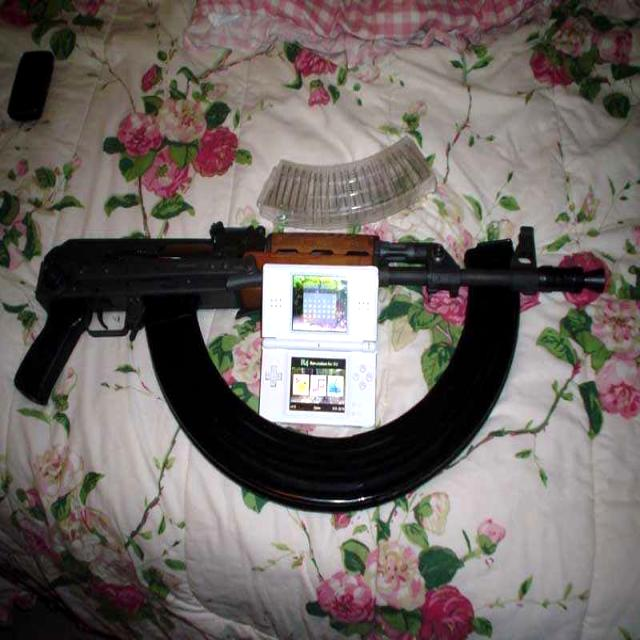ak: (26, 212, 611, 520)
